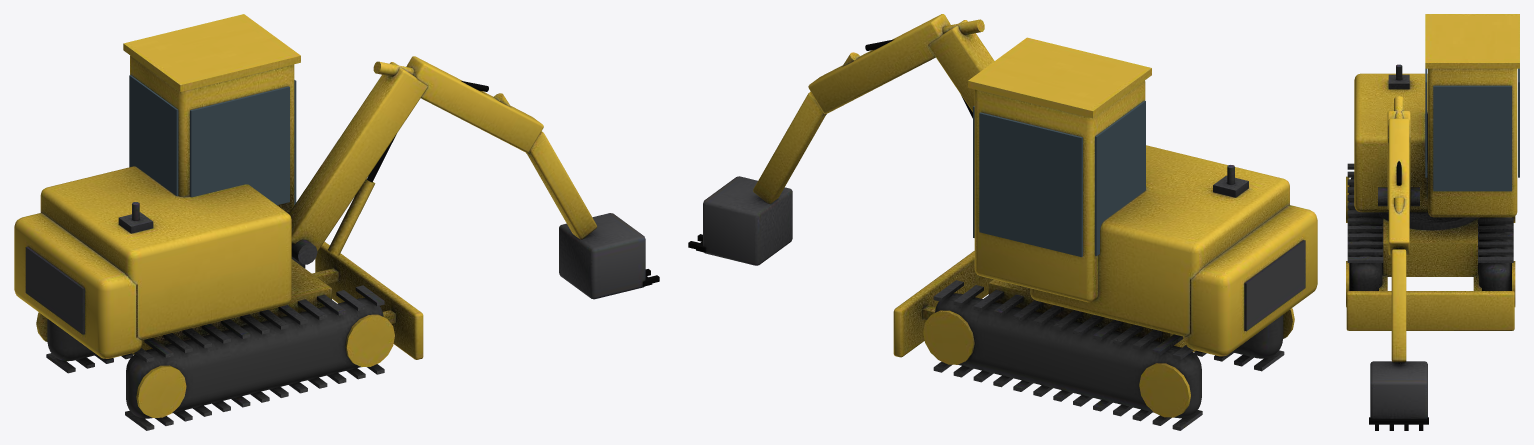
Rendered from excavator.glb.
3 renders of one model, left to right at view 1: azimuth 30°, elevation 25°; view 2: azimuth 150°, elevation 25°; view 3: azimuth 270°, elevation 25°, orthographic. The views are drawn at different scales.
Visible parts, largest first — view 1: arm, glass_r, glass_b; view 2: arm, glass_l, glass_b; view 3: arm, glass_f, glass_r, glass_l.
Boxes of the visible parts, <box> form: arm: <box>14,14,659,430</box>; glass_r: <box>190,86,289,204</box>; glass_b: <box>129,75,178,195</box>; arm: <box>688,14,1317,430</box>; glass_l: <box>979,112,1082,256</box>; glass_b: <box>1095,100,1145,255</box>; arm: <box>1346,14,1519,430</box>; glass_f: <box>1433,85,1511,191</box>; glass_r: <box>1425,68,1427,177</box>; glass_l: <box>1518,68,1519,177</box>.
Bounding box in the file's own units: 5.21 × 2.54 × 1.66.
2 materials, 1 textured.
